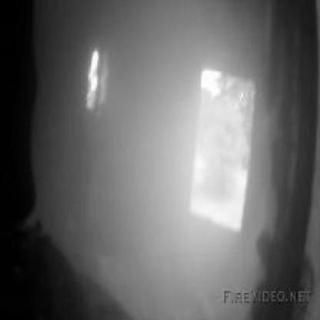other: (60, 33, 118, 119)
